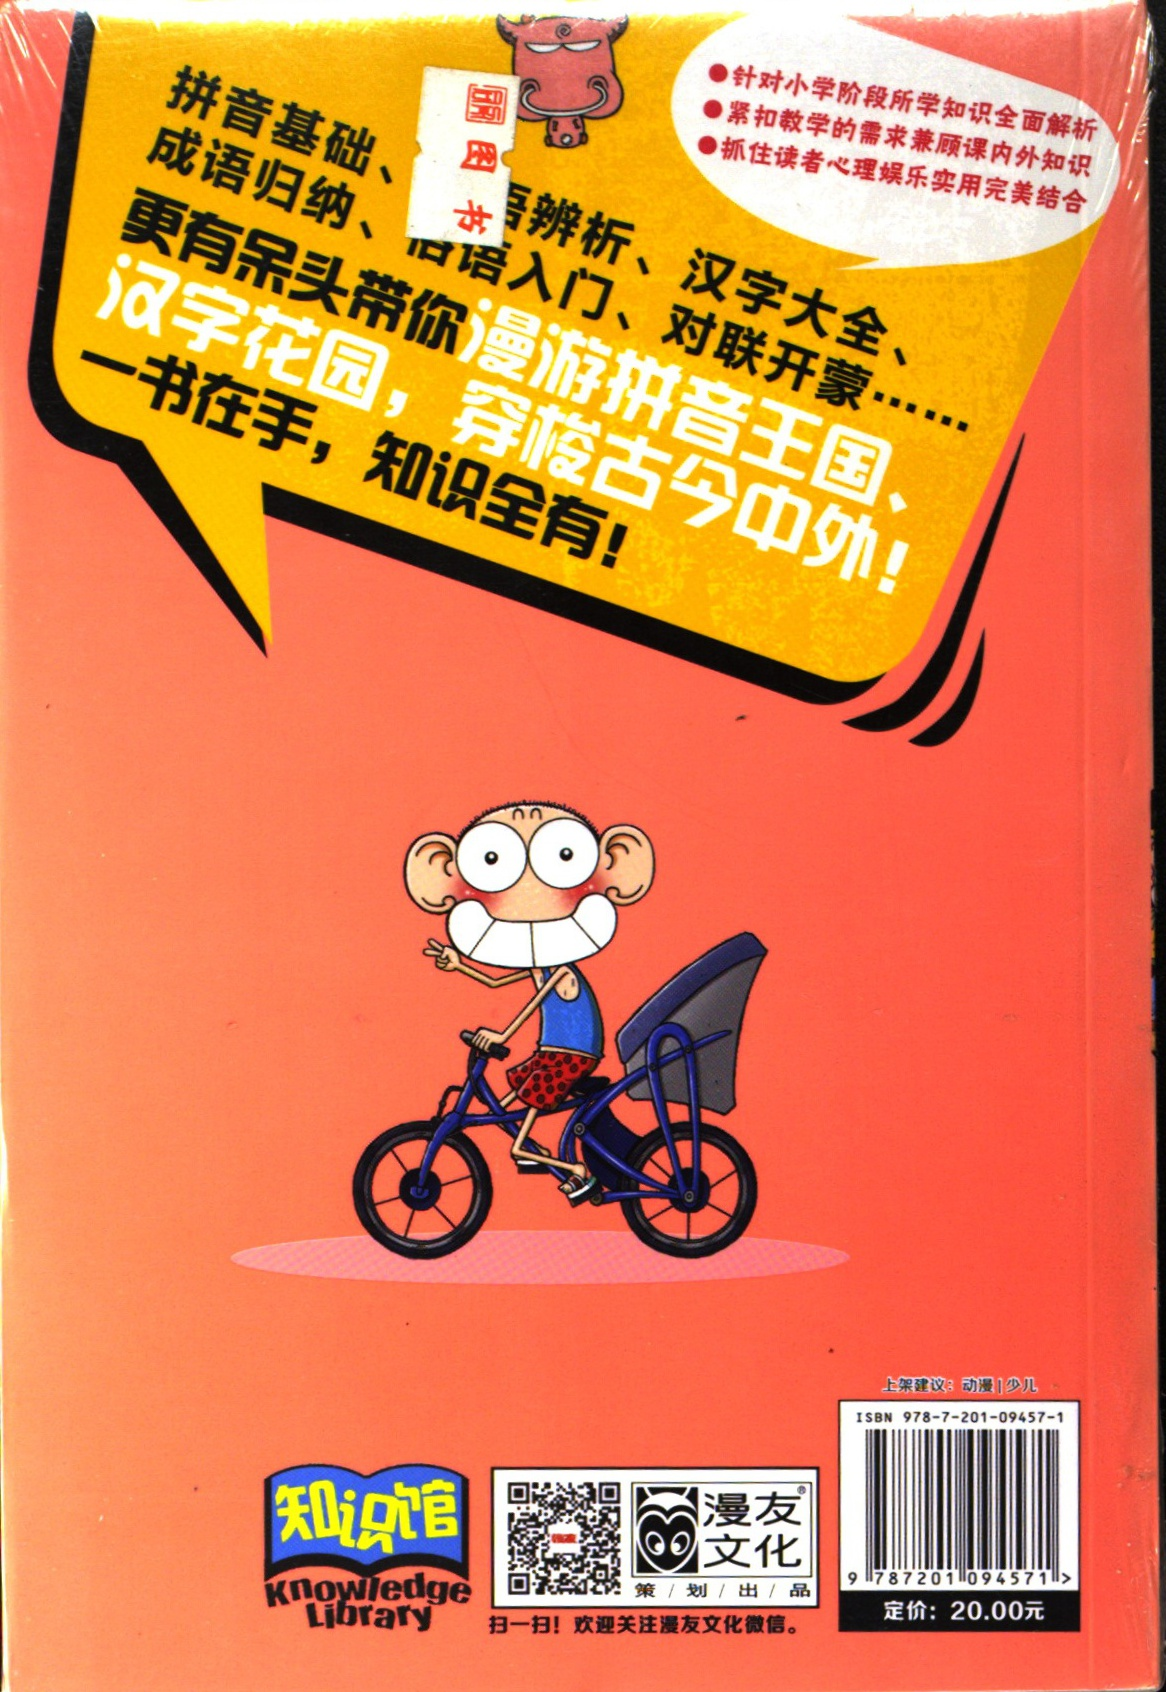barcode: (851, 1404, 1089, 1590)
